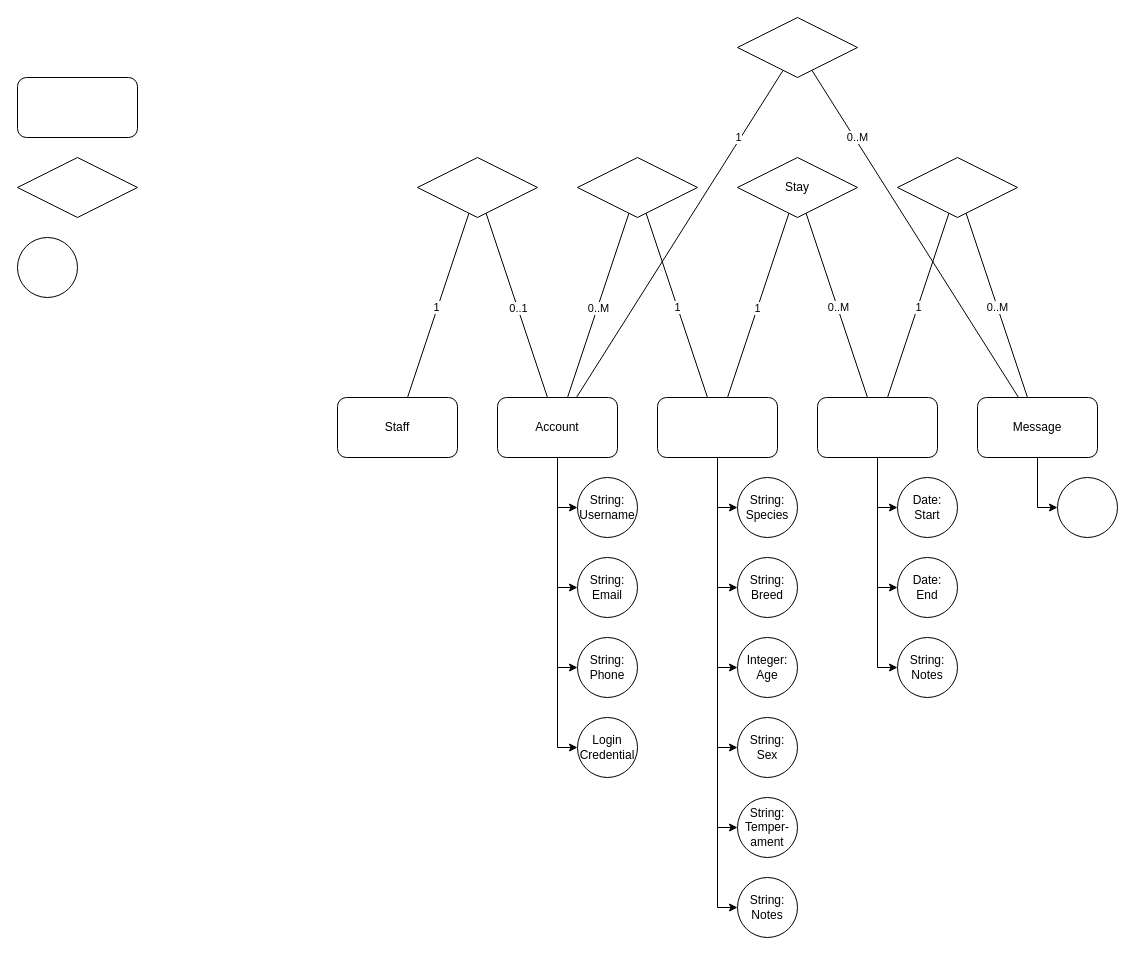
Some shapes in this 1135 by 955 pixel diagram are drawn without their labels. Each missing label, with the box of its shape:
Author: (736, 16, 858, 78)
Directory: (416, 156, 538, 218)
Ownership: (576, 156, 698, 218)
Pet: (656, 396, 778, 458)
Reservation: (816, 396, 938, 458)
String: Content: (1056, 476, 1118, 538)
Update: (896, 156, 1018, 218)
